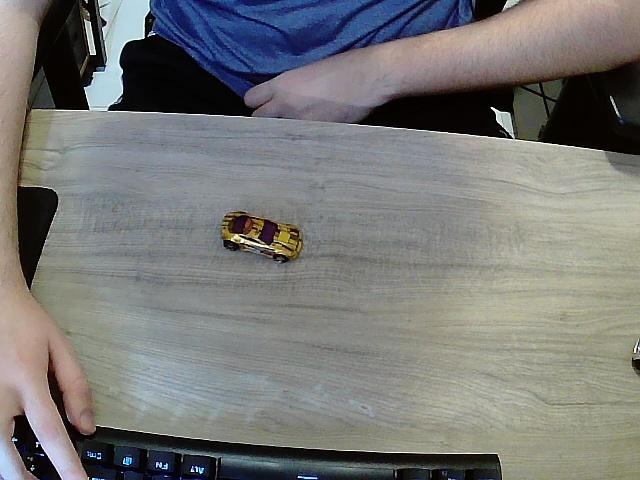Carro: (220, 212, 303, 263)
